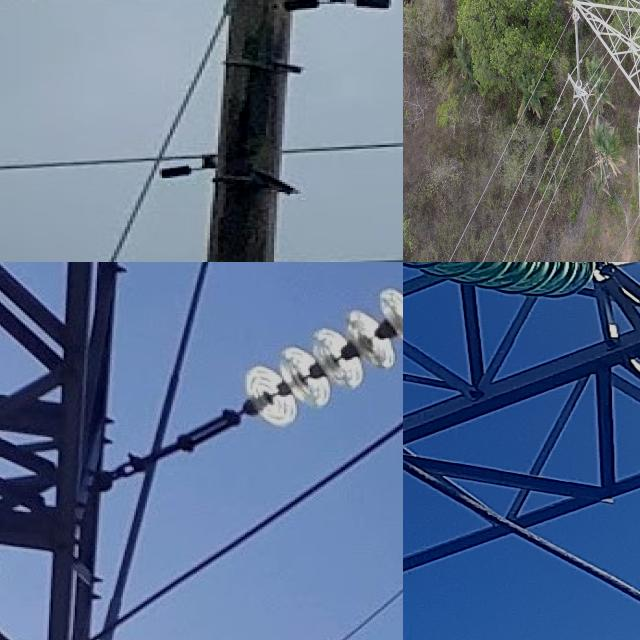杆塔: (0, 262, 156, 640), (560, 0, 640, 262)
正常绝缘子: (206, 262, 403, 467), (403, 262, 603, 311), (571, 12, 585, 92)
